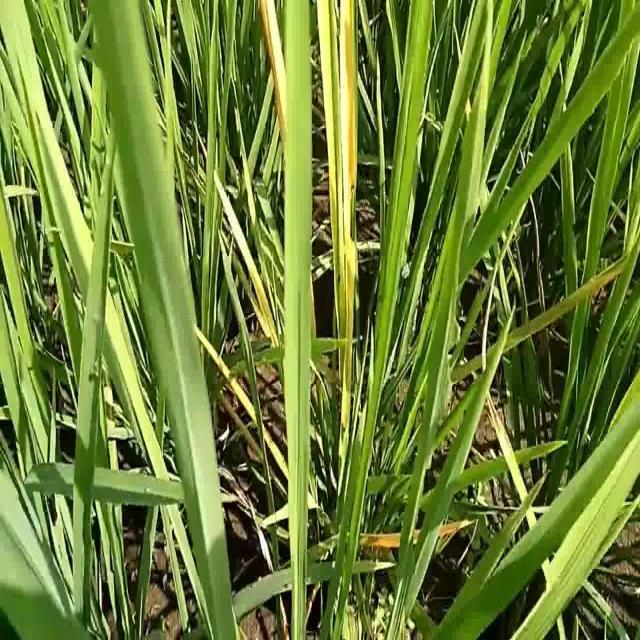Rice Tungro: (212, 168, 278, 351), (339, 3, 363, 342), (315, 1, 341, 295), (262, 2, 292, 175)
